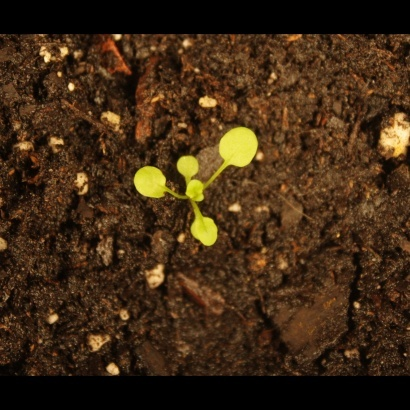leaf: (210, 124, 264, 172), (129, 161, 169, 205), (188, 214, 223, 251), (177, 179, 214, 205), (174, 152, 207, 178)
